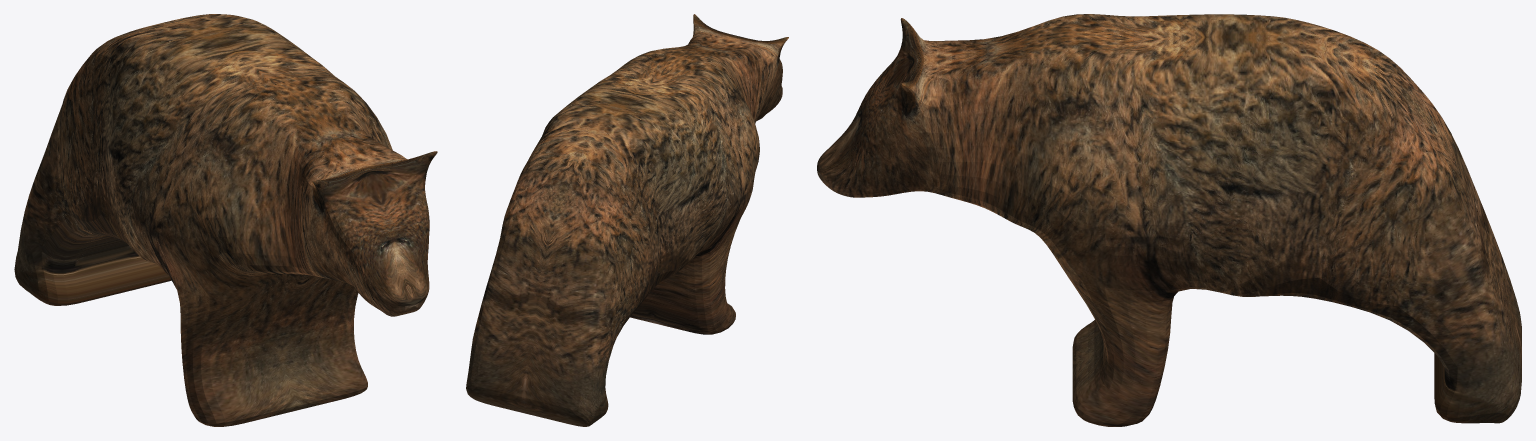
The model's file is bear.fbx.
The picture shows the model from 3 angles, left to right: view 1: azimuth 30°, elevation 25°; view 2: azimuth 150°, elevation 25°; view 3: azimuth 270°, elevation 25°; orthographic projection. The views are drawn at different scales.
Parts seen in each view (by area): view 1: Plane; view 2: Plane; view 3: Plane.
Part boxes in pixels (<box>): Plane: <box>14,14,437,426</box>; Plane: <box>466,14,788,426</box>; Plane: <box>817,14,1521,426</box>.
Size of the model in its own units: 165 by 227 by 409.
